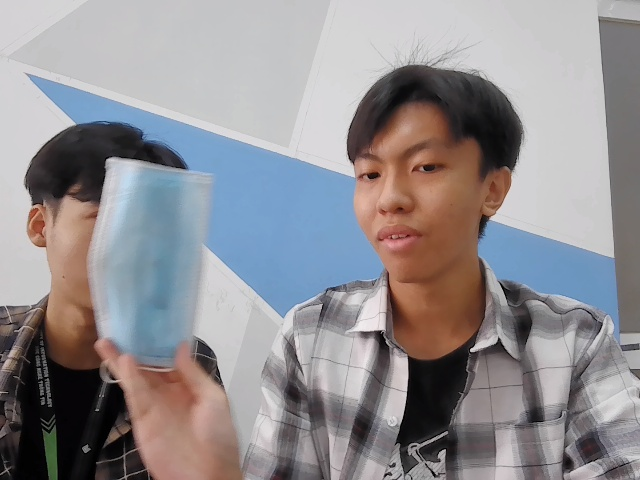human: (346, 66, 513, 277)
mask: (91, 153, 208, 373)
